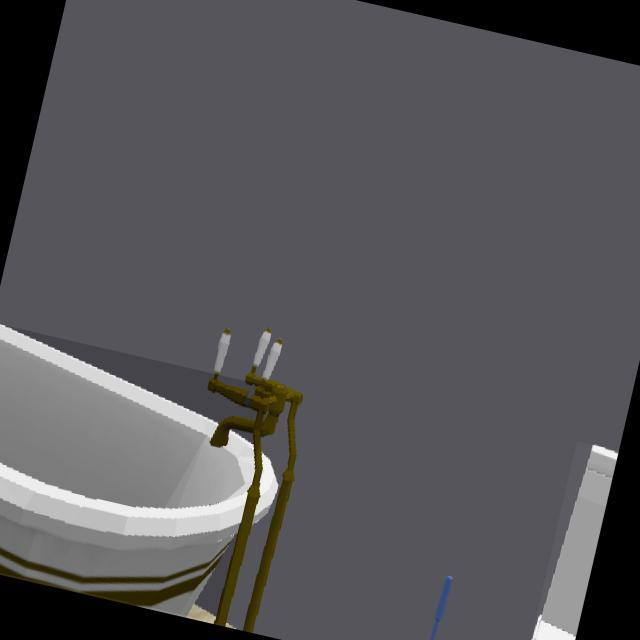bathtube: (0, 326, 253, 615)
toilet: (532, 445, 616, 640)
